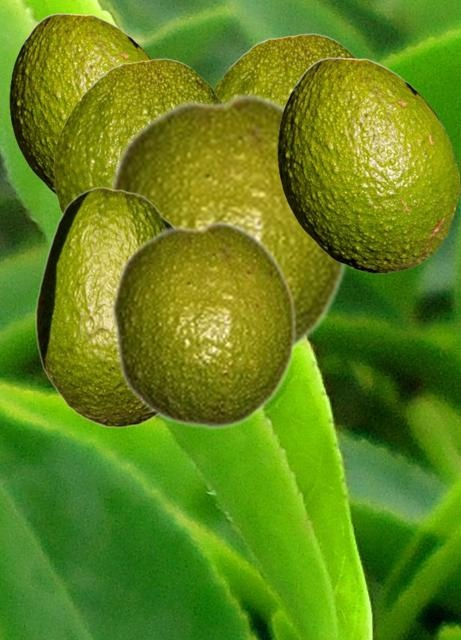avocado: (104, 91, 349, 352), (110, 219, 297, 430), (277, 57, 459, 272), (35, 186, 173, 427), (53, 58, 221, 212), (9, 13, 151, 195), (214, 33, 356, 102)
